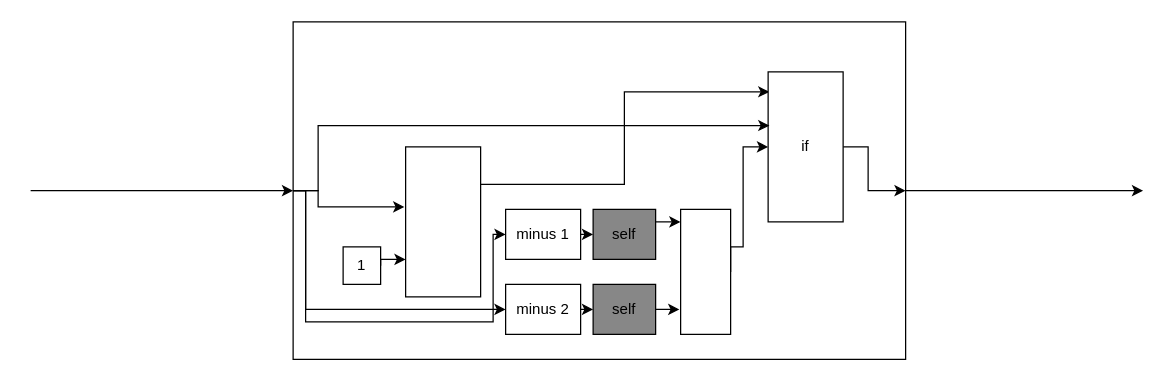
Image size: 1175x381. Some labels were removed from this diagram. Here are the shapes that lost their labels. From the top down, the centre of each, then its label:
At pixel 442 221: "leq?".
At pixel 705 271: "sum".
